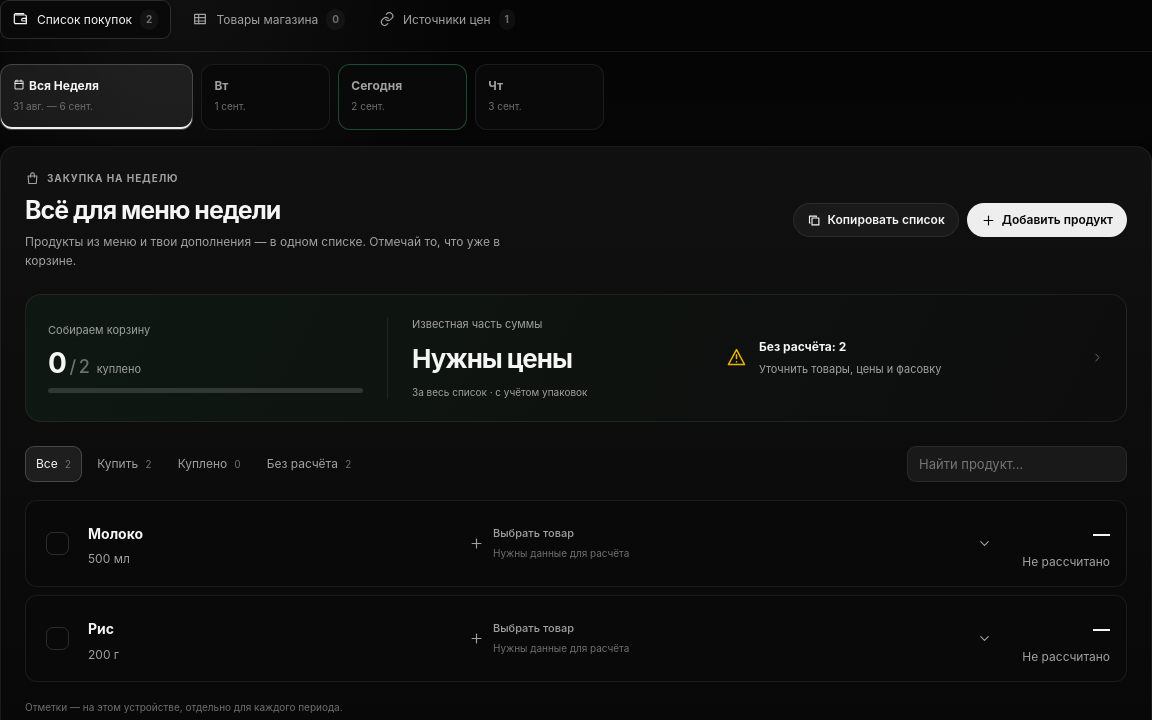
Scenario: source removal confirmation wiring › passes deleteProducts=true from the confirmation to the catalog
Click the button "Источники цен 1".
click(447, 19)  # box [366,0,528,38]
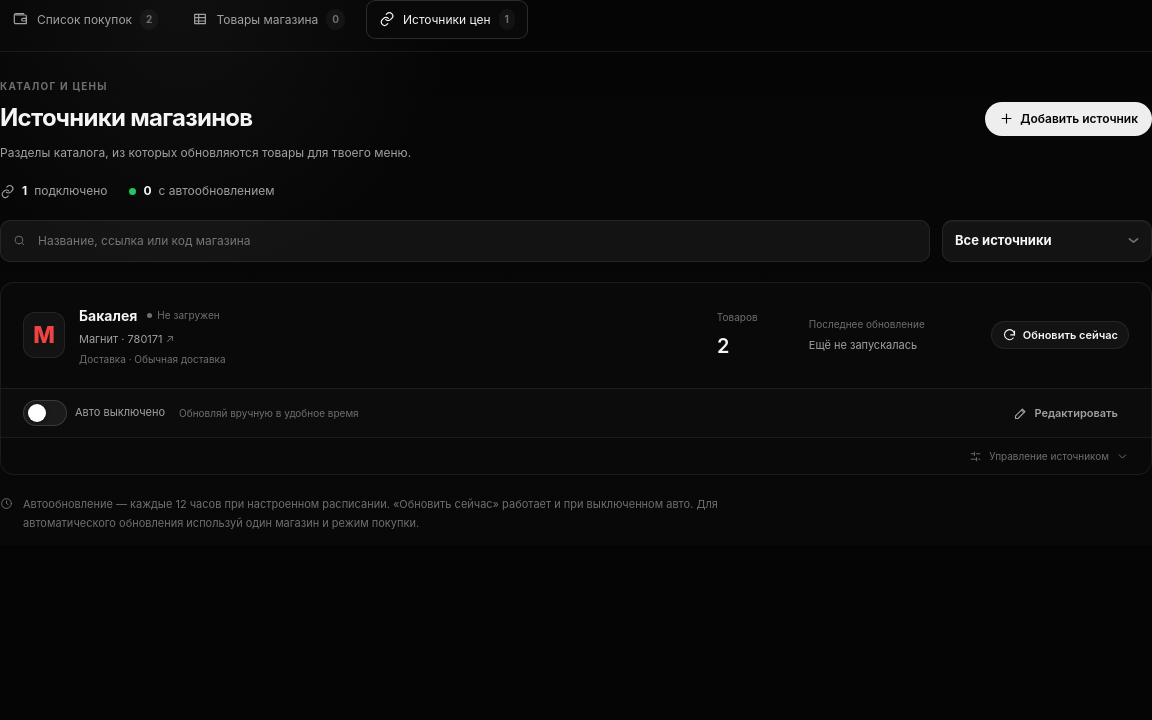
Click the heading "Управление источником".
click(1049, 456)  # box [969,450,1129,463]
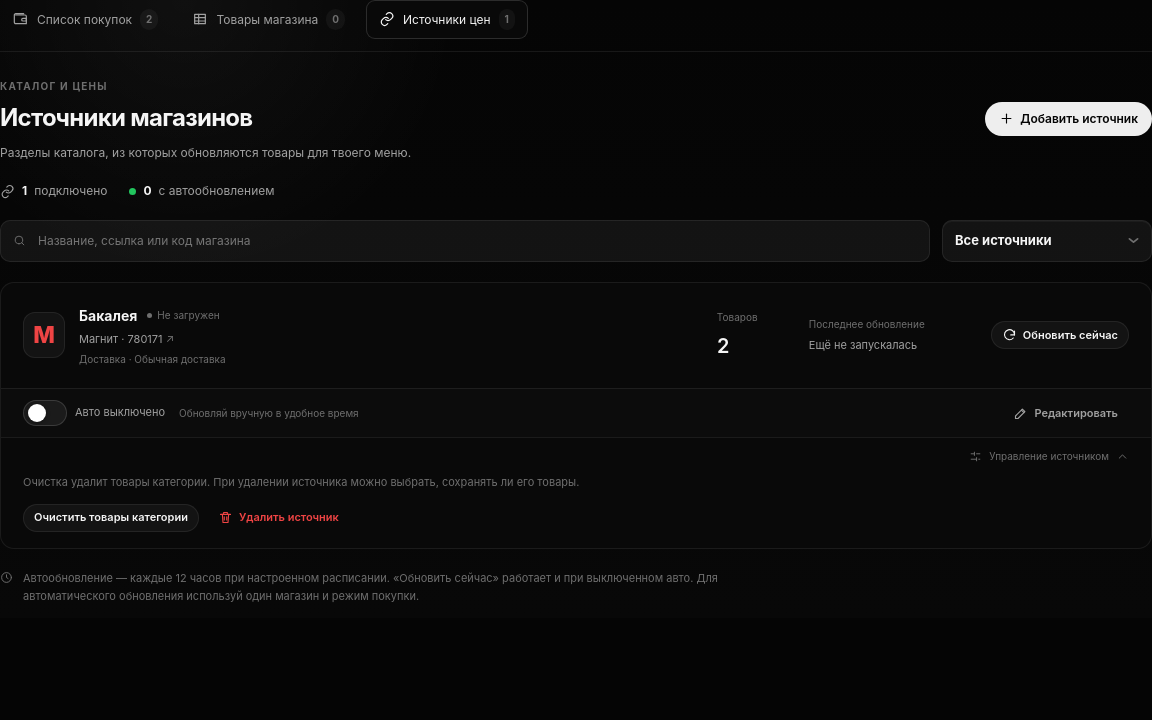
Click the button "Удалить источник".
click(278, 518)  # box [207,504,350,532]
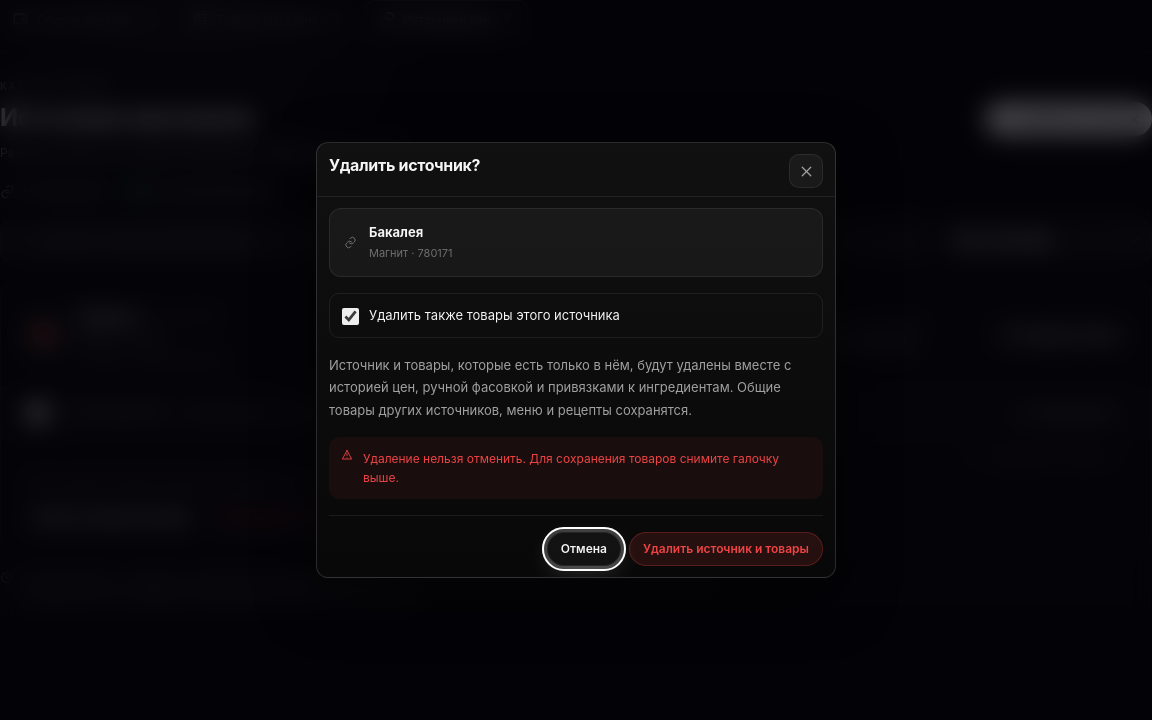
Click the button with class "source-delete__confirm".
click(726, 549)  # box [629,532,823,566]
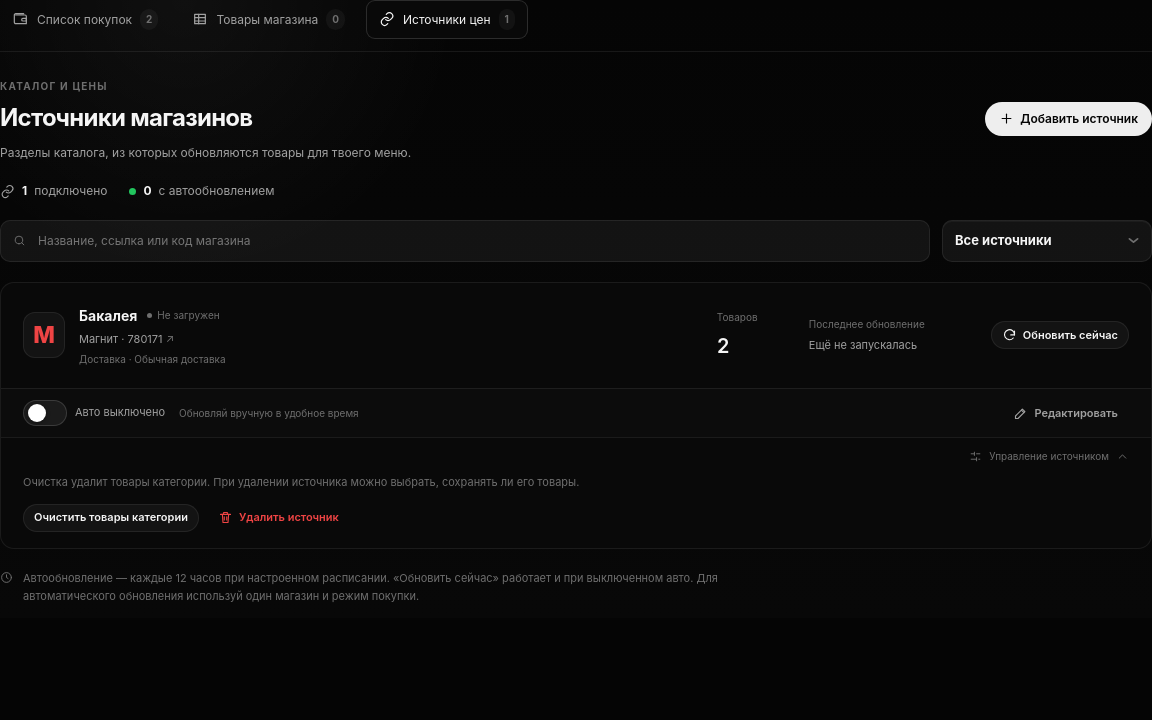
Now the dialog is gone
